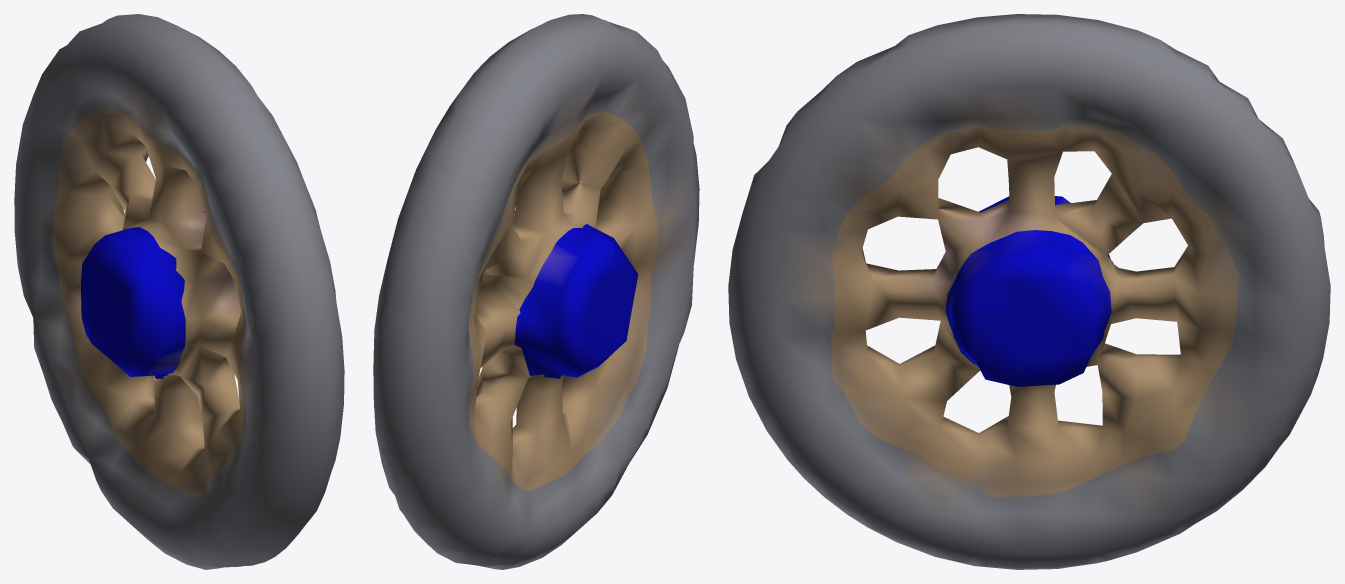
Rendered from wheel_spoked.glb.
3 views of the same model, side by side, from view 1: azimuth 30°, elevation 25°; view 2: azimuth 150°, elevation 25°; view 3: azimuth 270°, elevation 25° (orthographic). The views are drawn at different scales.
Parts seen in each view (by area): view 1: wheel_spoked; view 2: wheel_spoked; view 3: wheel_spoked.
Part boxes in pixels (x1,y1,x2,y2): wheel_spoked: (14,14,344,569); wheel_spoked: (373,14,699,569); wheel_spoked: (728,14,1330,569).
Size of the model in its own units: 4.4 by 14.5 by 14.5.
